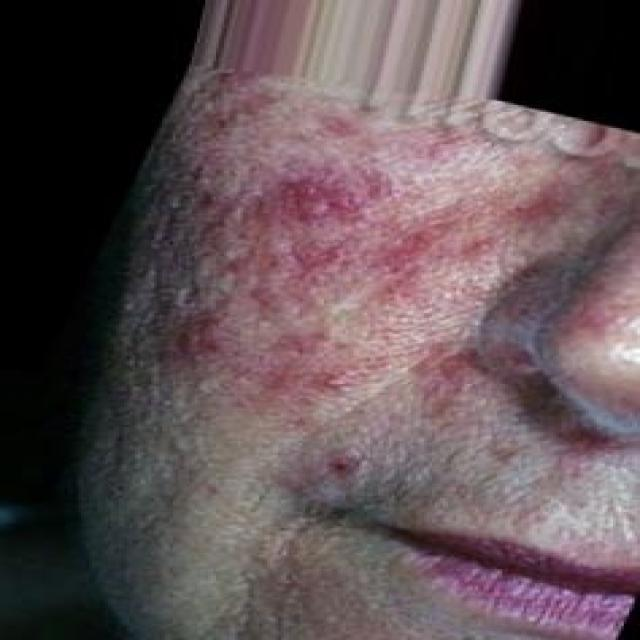Rosacea: (149, 150, 570, 404)
